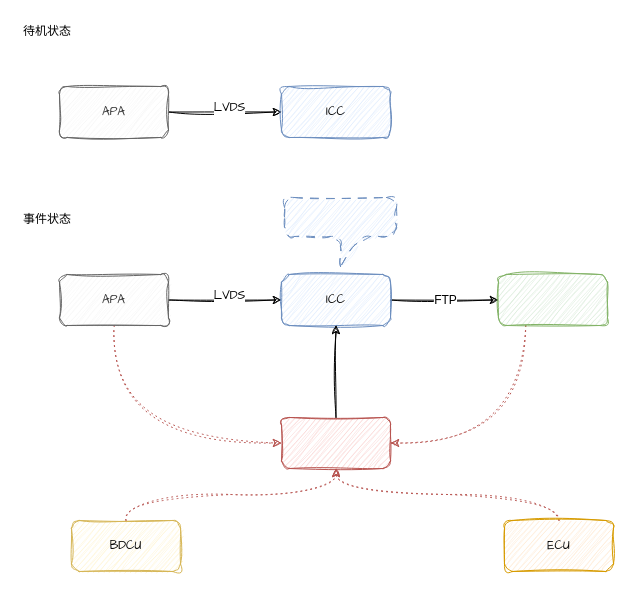
The diagram is 631 pixels wide and 589 high, and some of its shapes have lost their labels. Here are the shapes that lost their labels. From the top down, the centre of each, then its label:
At point 340,231: "1、图像处理 2、输出MP4".
At point 553,300: "DVR".
At point 335,442: "事件策略".
